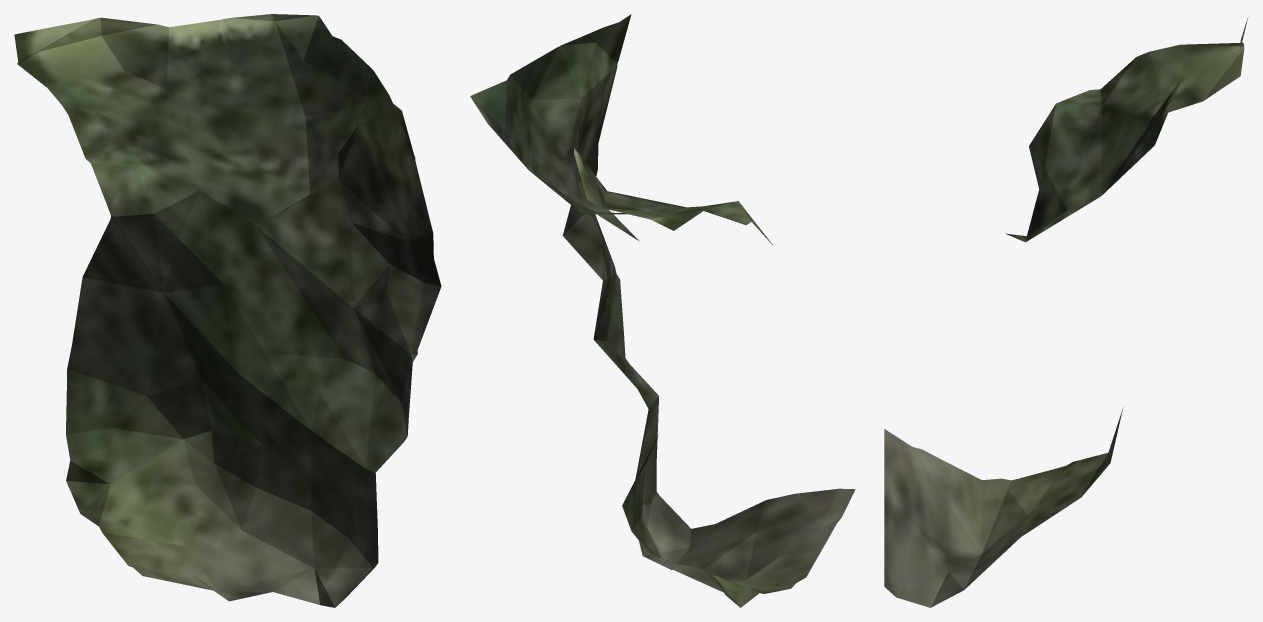
3 renders of one model, left to right at view 1: azimuth 30°, elevation 25°; view 2: azimuth 150°, elevation 25°; view 3: azimuth 270°, elevation 25°, orthographic. The views are drawn at different scales.
Bounding box in the file's own units: 2.19 × 4.12 × 2.63.
Materials: 1 (1 with a texture image).
